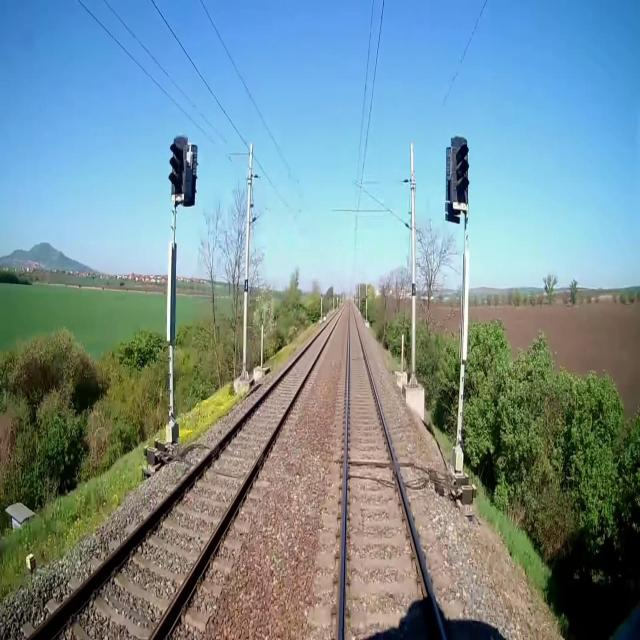rail-track: (34, 312, 340, 639), (344, 305, 441, 639)
